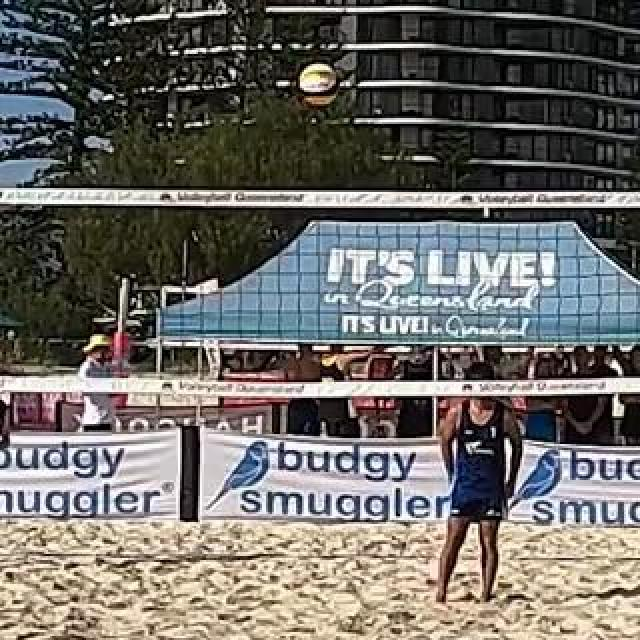volleyball: (299, 65, 339, 107)
